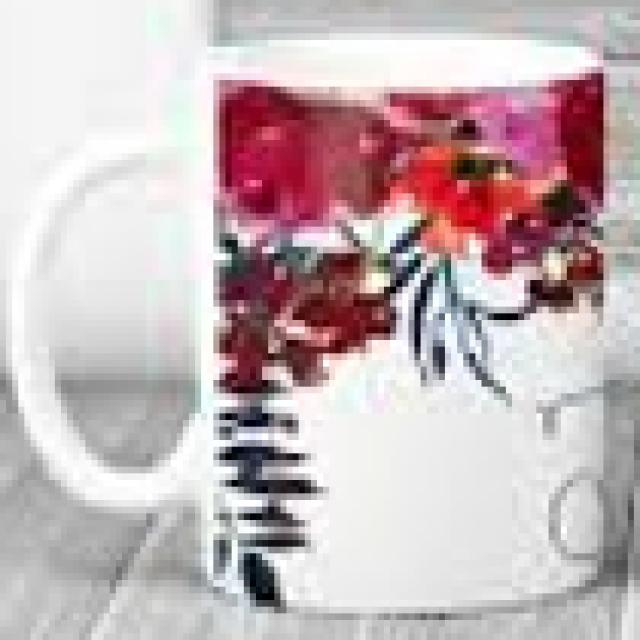taza: (6, 32, 612, 617)
